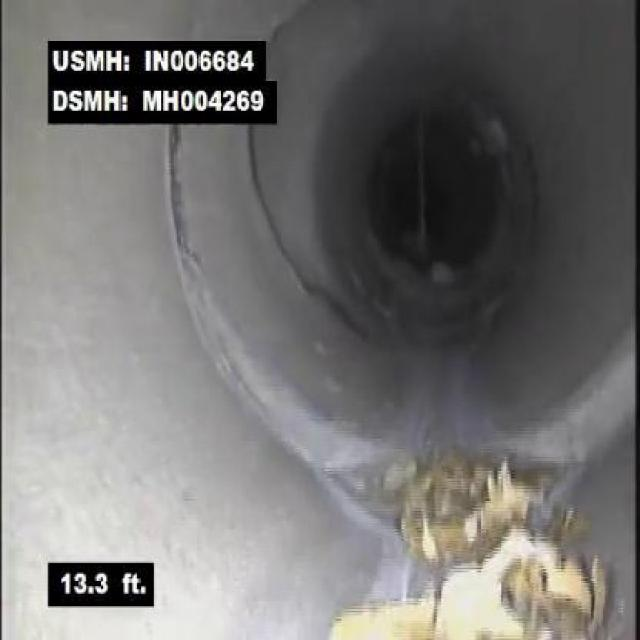Joint offset: (180, 246, 329, 479), (512, 336, 632, 507)
